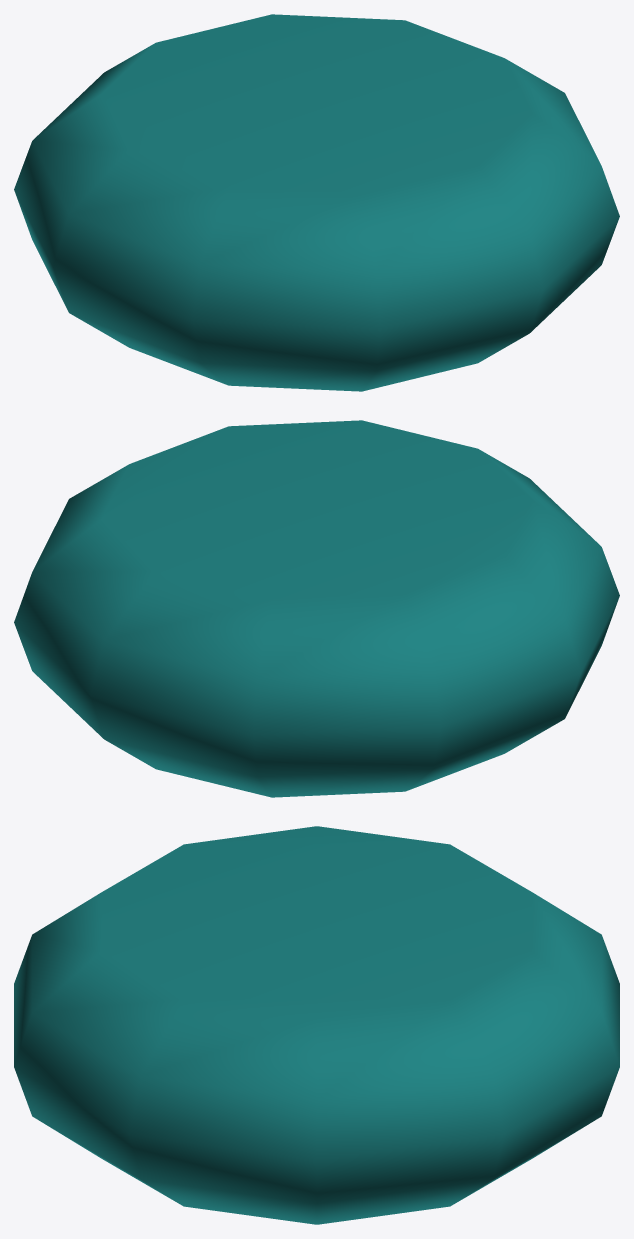
File: tubing_collider.fbx
3 views of the same model, one above another, from view 1: azimuth 30°, elevation 25°; view 2: azimuth 150°, elevation 25°; view 3: azimuth 270°, elevation 25° (orthographic). The views are drawn at different scales.
Parts seen in each view (by area): view 1: tubing_collider; view 2: tubing_collider; view 3: tubing_collider.
Part boxes in pixels (x1,y1,x2,y2): tubing_collider: (14, 14, 619, 391); tubing_collider: (14, 420, 619, 797); tubing_collider: (14, 826, 619, 1224).
Bounding box in the file's own units: 85.08 × 30.53 × 80.92.
